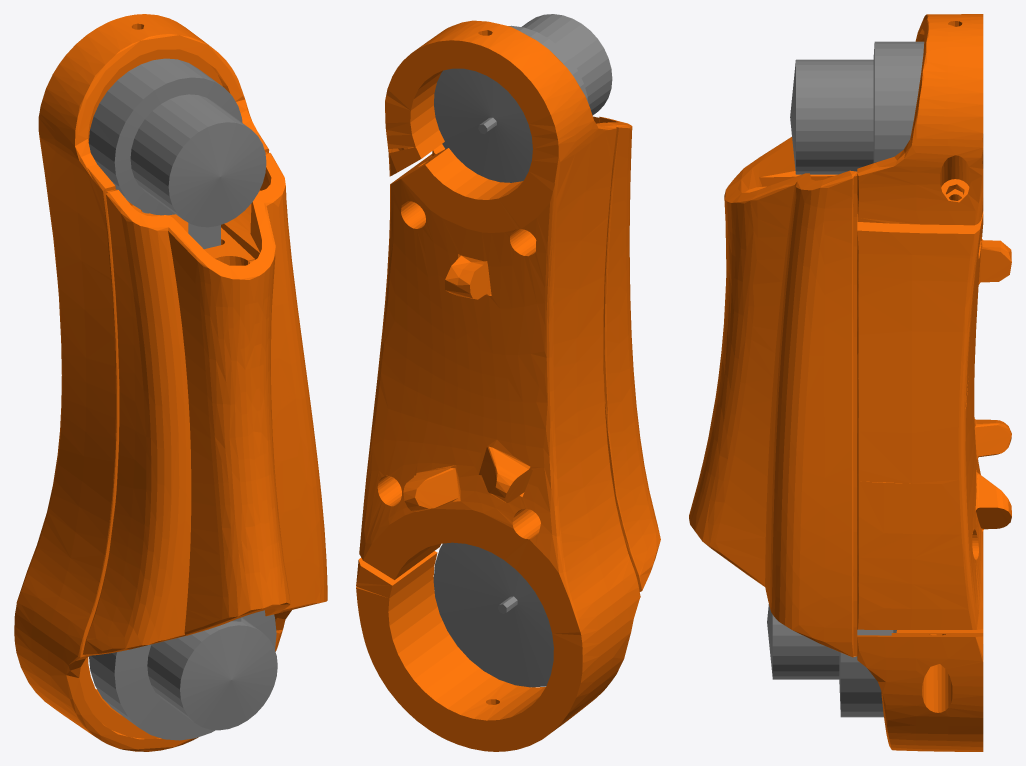
File: arm2.dae
The picture shows the model from 3 angles, left to right: view 1: azimuth 30°, elevation 25°; view 2: azimuth 150°, elevation 25°; view 3: azimuth 270°, elevation 25°; orthographic projection. The views are drawn at different scales.
Parts seen in each view (by area): view 1: arm2; view 2: arm2; view 3: arm2.
Boxes of the visible parts, x1,y1,x2,y2 form: arm2: (14, 14, 327, 751); arm2: (356, 14, 660, 751); arm2: (689, 14, 1011, 751).
Bounding box in the file's own units: 0.0745 × 0.0899 × 0.22.
